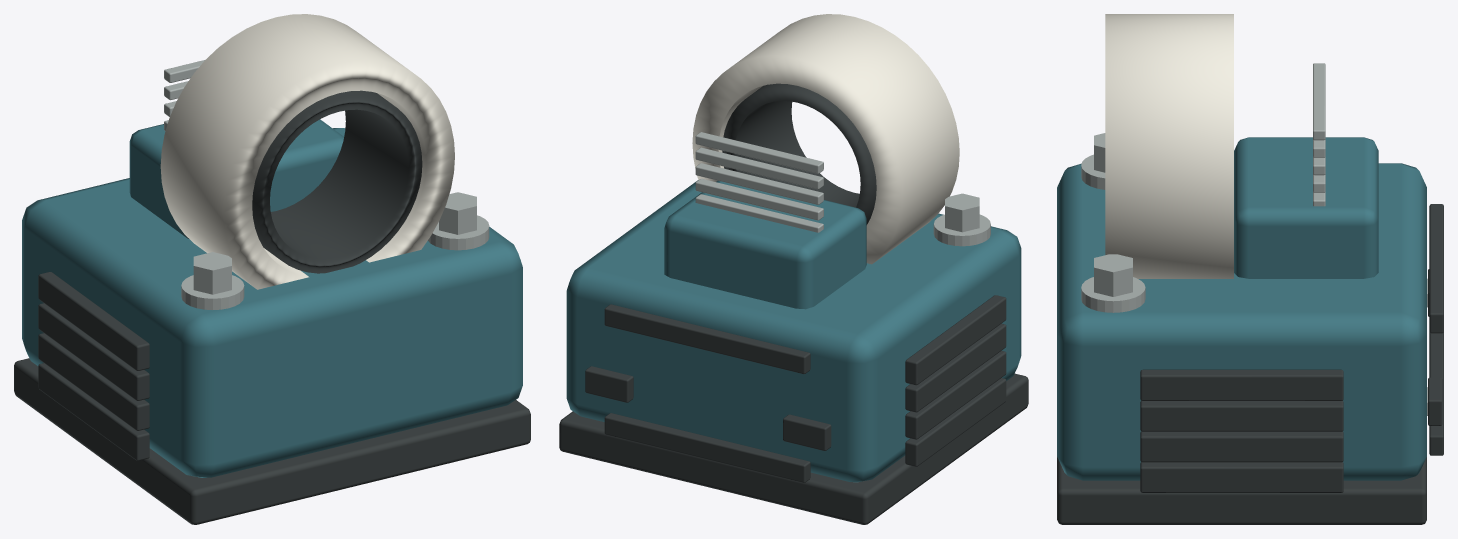
File: optician-and-optical-lens-workshop-optician-and-optica-073c9c90__31700.glb
3 renders of one model, left to right at view 1: azimuth 30°, elevation 25°; view 2: azimuth 150°, elevation 25°; view 3: azimuth 270°, elevation 25°, orthographic. The views are drawn at different scales.
Parts seen in each view (by area): view 1: optician-and-optical-lens-workshop-frame-heating-unit; view 2: optician-and-optical-lens-workshop-frame-heating-unit; view 3: optician-and-optical-lens-workshop-frame-heating-unit.
Boxes of the visible parts, bbox=[...] form: optician-and-optical-lens-workshop-frame-heating-unit: bbox=[14, 14, 530, 524]; optician-and-optical-lens-workshop-frame-heating-unit: bbox=[559, 14, 1028, 524]; optician-and-optical-lens-workshop-frame-heating-unit: bbox=[1057, 14, 1443, 524].
Bounding box in the file's own units: 0.272 × 0.285 × 0.2405.
